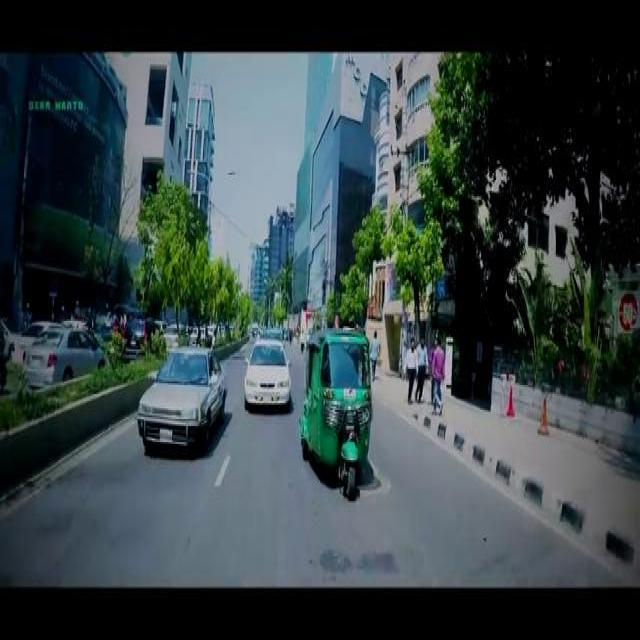car: (134, 345, 226, 452), (20, 324, 104, 381), (243, 337, 290, 410), (162, 321, 190, 348)
suv: (119, 315, 163, 354)
three wheelers -CNG-: (300, 326, 372, 497)
